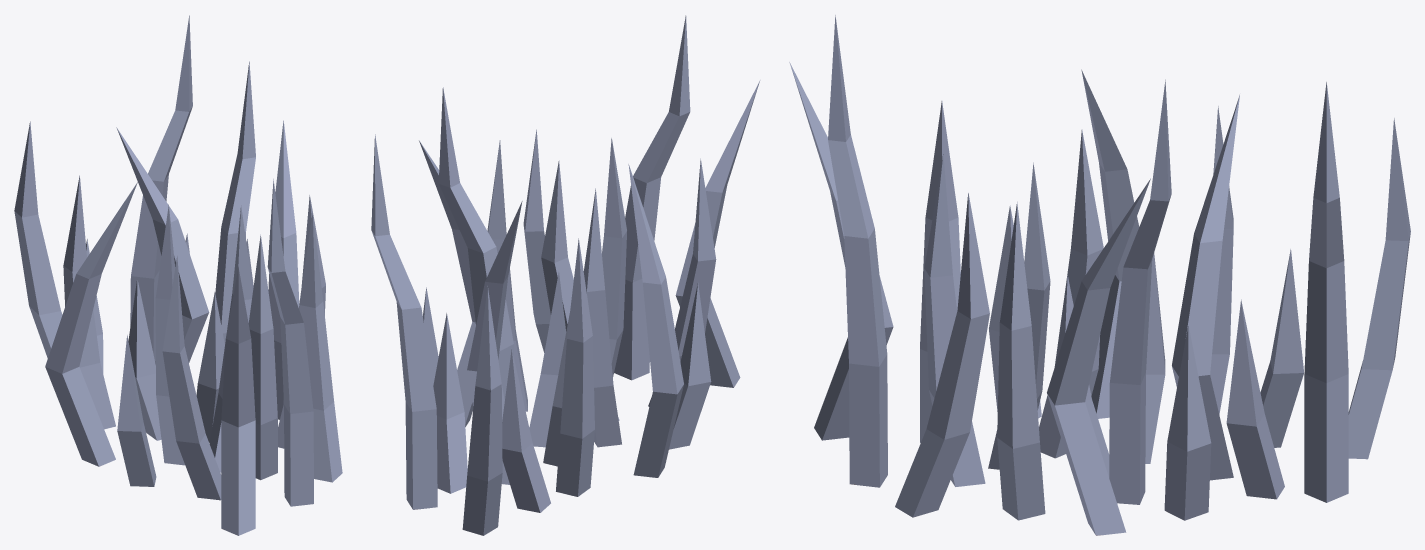
The model's file is grass_temp.FBX.
3 renders of one model, left to right at view 1: azimuth 30°, elevation 25°; view 2: azimuth 150°, elevation 25°; view 3: azimuth 270°, elevation 25°, orthographic. The views are drawn at different scales.
Parts seen in each view (by area): view 1: grass_temp; view 2: grass_temp; view 3: grass_temp.
Part boxes in pixels (left/top/right/bottom): grass_temp: left=14, top=15, right=342, bottom=535; grass_temp: left=371, top=15, right=760, bottom=535; grass_temp: left=789, top=15, right=1410, bottom=535.
Bounding box in the file's own units: 32.73 × 44 × 56.21.
